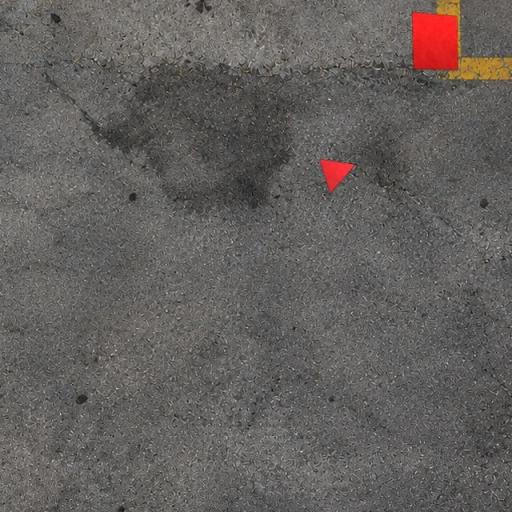RED_SQUARE: (411, 12, 459, 70)
